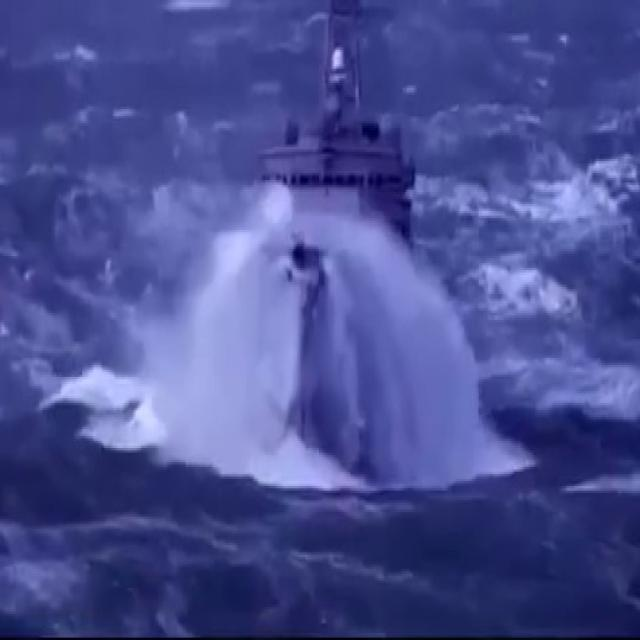houseboat: (253, 0, 424, 457)
